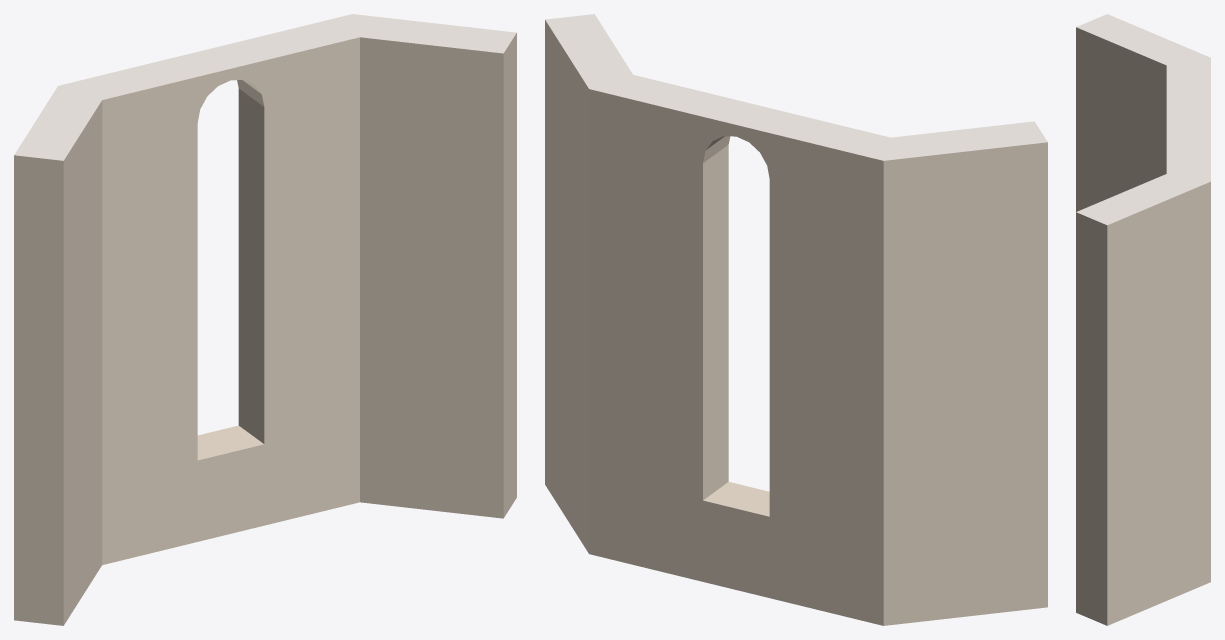
3 views of the same model, side by side, from view 1: azimuth 30°, elevation 25°; view 2: azimuth 150°, elevation 25°; view 3: azimuth 270°, elevation 25° (orthographic). The views are drawn at different scales.
Parts seen in each view (by area): view 1: object1.010; view 2: object1.010; view 3: object1.010.
Part boxes in pixels (x1,y1,x2,y2): object1.010: (14,14,516,625); object1.010: (545,14,1047,625); object1.010: (1076,14,1210,625).
Size of the model in its own units: 2.26 by 2 by 0.6101.
